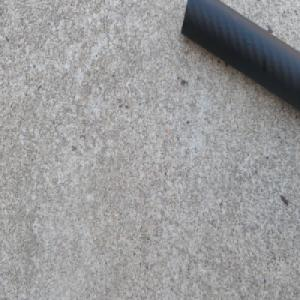LuggagePart: (178, 0, 300, 116)
